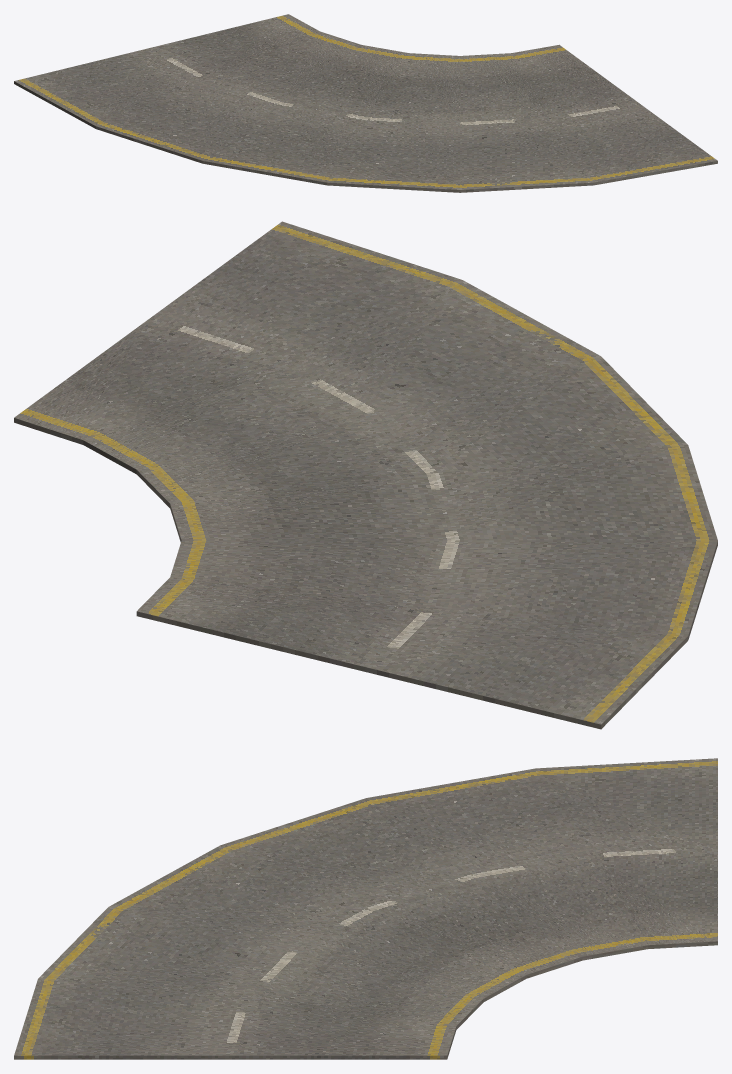
File: road_1_long_corner_no_sides.glb
3 renders of one model, top to bottom at view 1: azimuth 30°, elevation 25°; view 2: azimuth 150°, elevation 25°; view 3: azimuth 270°, elevation 25°, orthographic. The views are drawn at different scales.
Parts seen in each view (by area): view 1: road_1_long_corner_no_sides; view 2: road_1_long_corner_no_sides; view 3: road_1_long_corner_no_sides.
Boxes of the visible parts, x1,y1,x2,y2 form: road_1_long_corner_no_sides: [14, 14, 717, 192]; road_1_long_corner_no_sides: [14, 221, 717, 729]; road_1_long_corner_no_sides: [14, 758, 717, 1059].
Bounding box in the file's own units: 26 × 0.16 × 26.
1 material, 1 textured.
